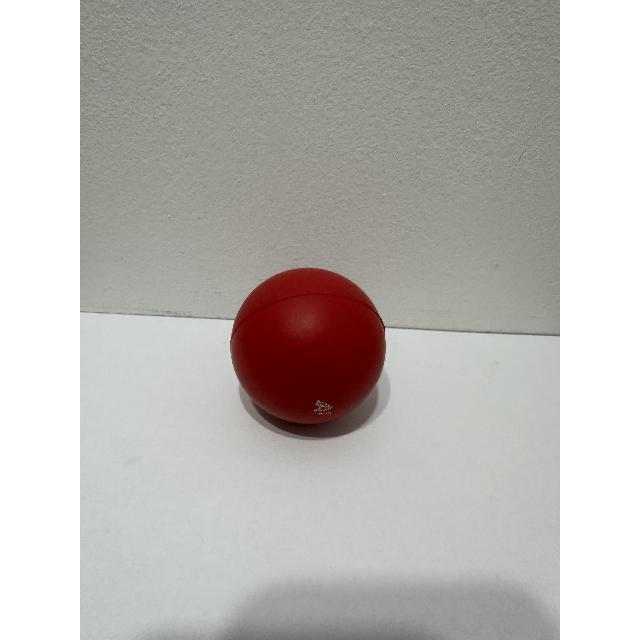red_ball: (223, 248, 423, 452)
